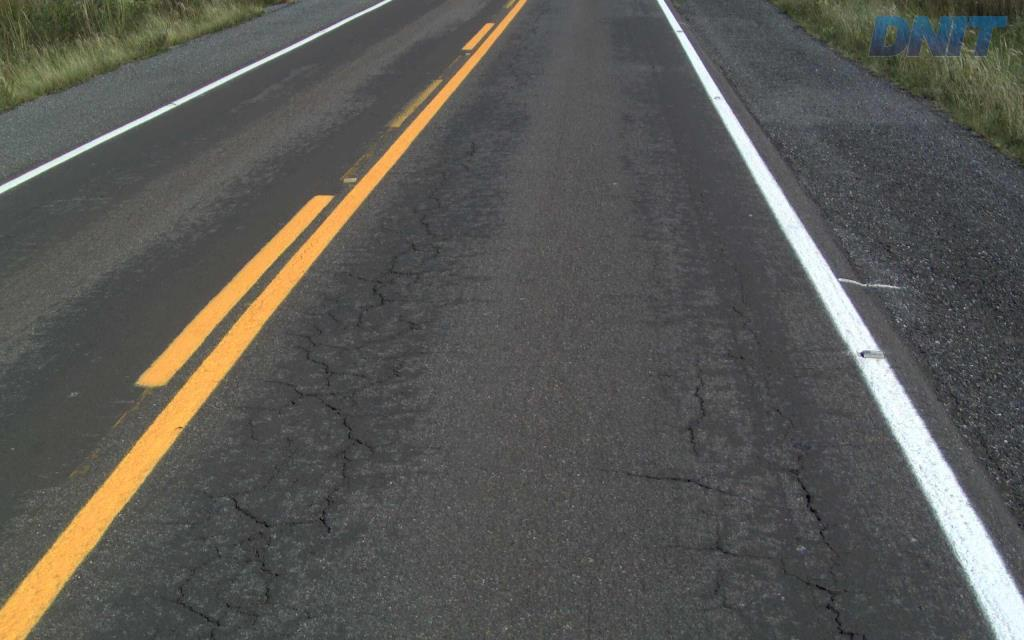crack: (779, 453, 872, 639), (169, 583, 221, 639)
